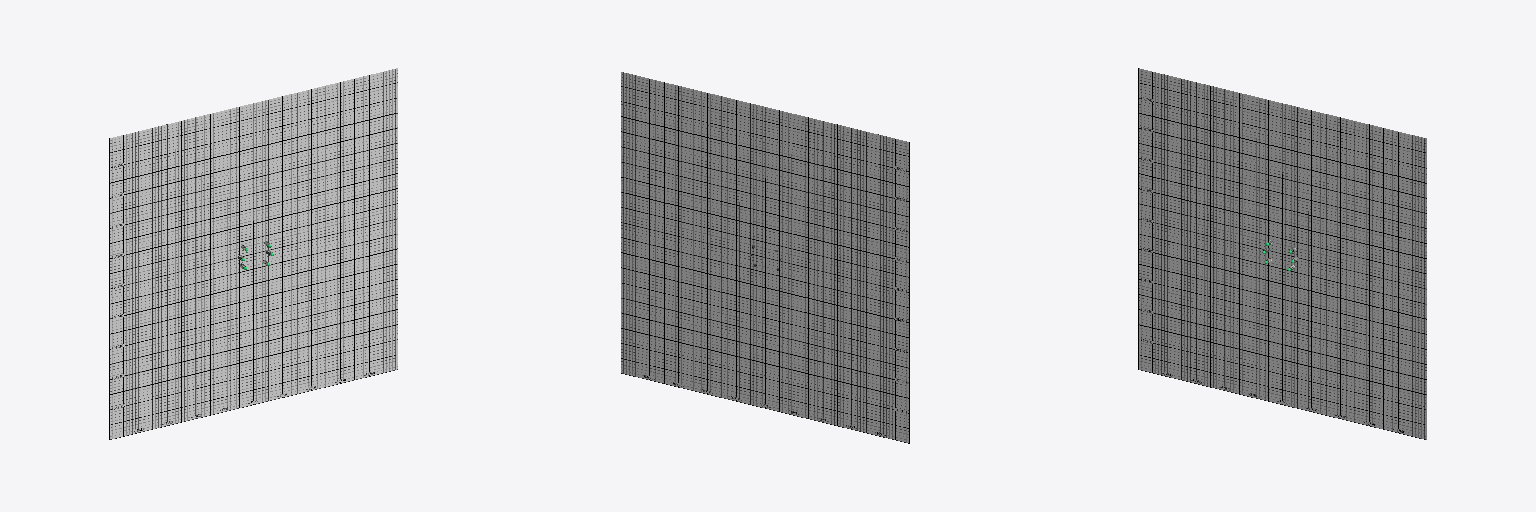
The picture shows the model from 3 angles: view 1: azimuth 30°, elevation 25°; view 2: azimuth 150°, elevation 25°; view 3: azimuth 330°, elevation 25°; orthographic projection.
Visible parts, largest first — view 1: Square100m; view 2: Square100m; view 3: Square100m.
Part boxes in pixels (x1,y1,x2,y2): Square100m: (109, 68, 397, 439); Square100m: (621, 72, 909, 443); Square100m: (1138, 68, 1426, 439).
Size of the model in its own units: 100 by 100 by 3.
3 materials, 2 textured.